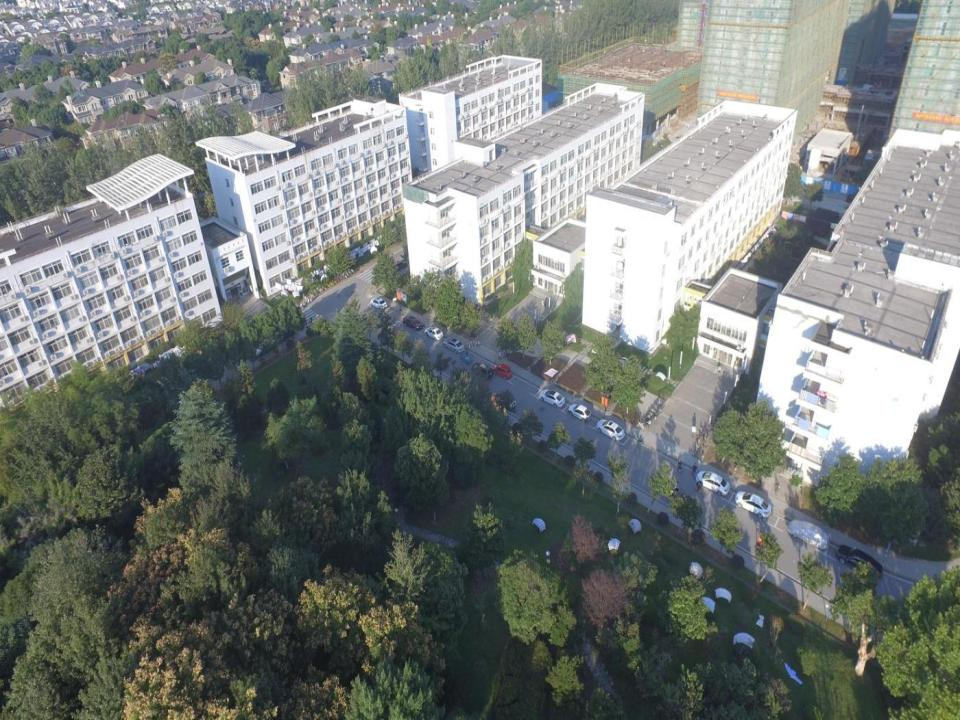car: (836, 544, 883, 580), (787, 517, 831, 551), (735, 489, 772, 518), (695, 469, 730, 497), (596, 418, 626, 442), (539, 389, 566, 408), (568, 402, 591, 422), (254, 338, 278, 356), (471, 362, 492, 379), (424, 324, 444, 341), (443, 338, 464, 354), (492, 363, 512, 379), (402, 314, 422, 329), (369, 296, 387, 310), (278, 329, 297, 341)
